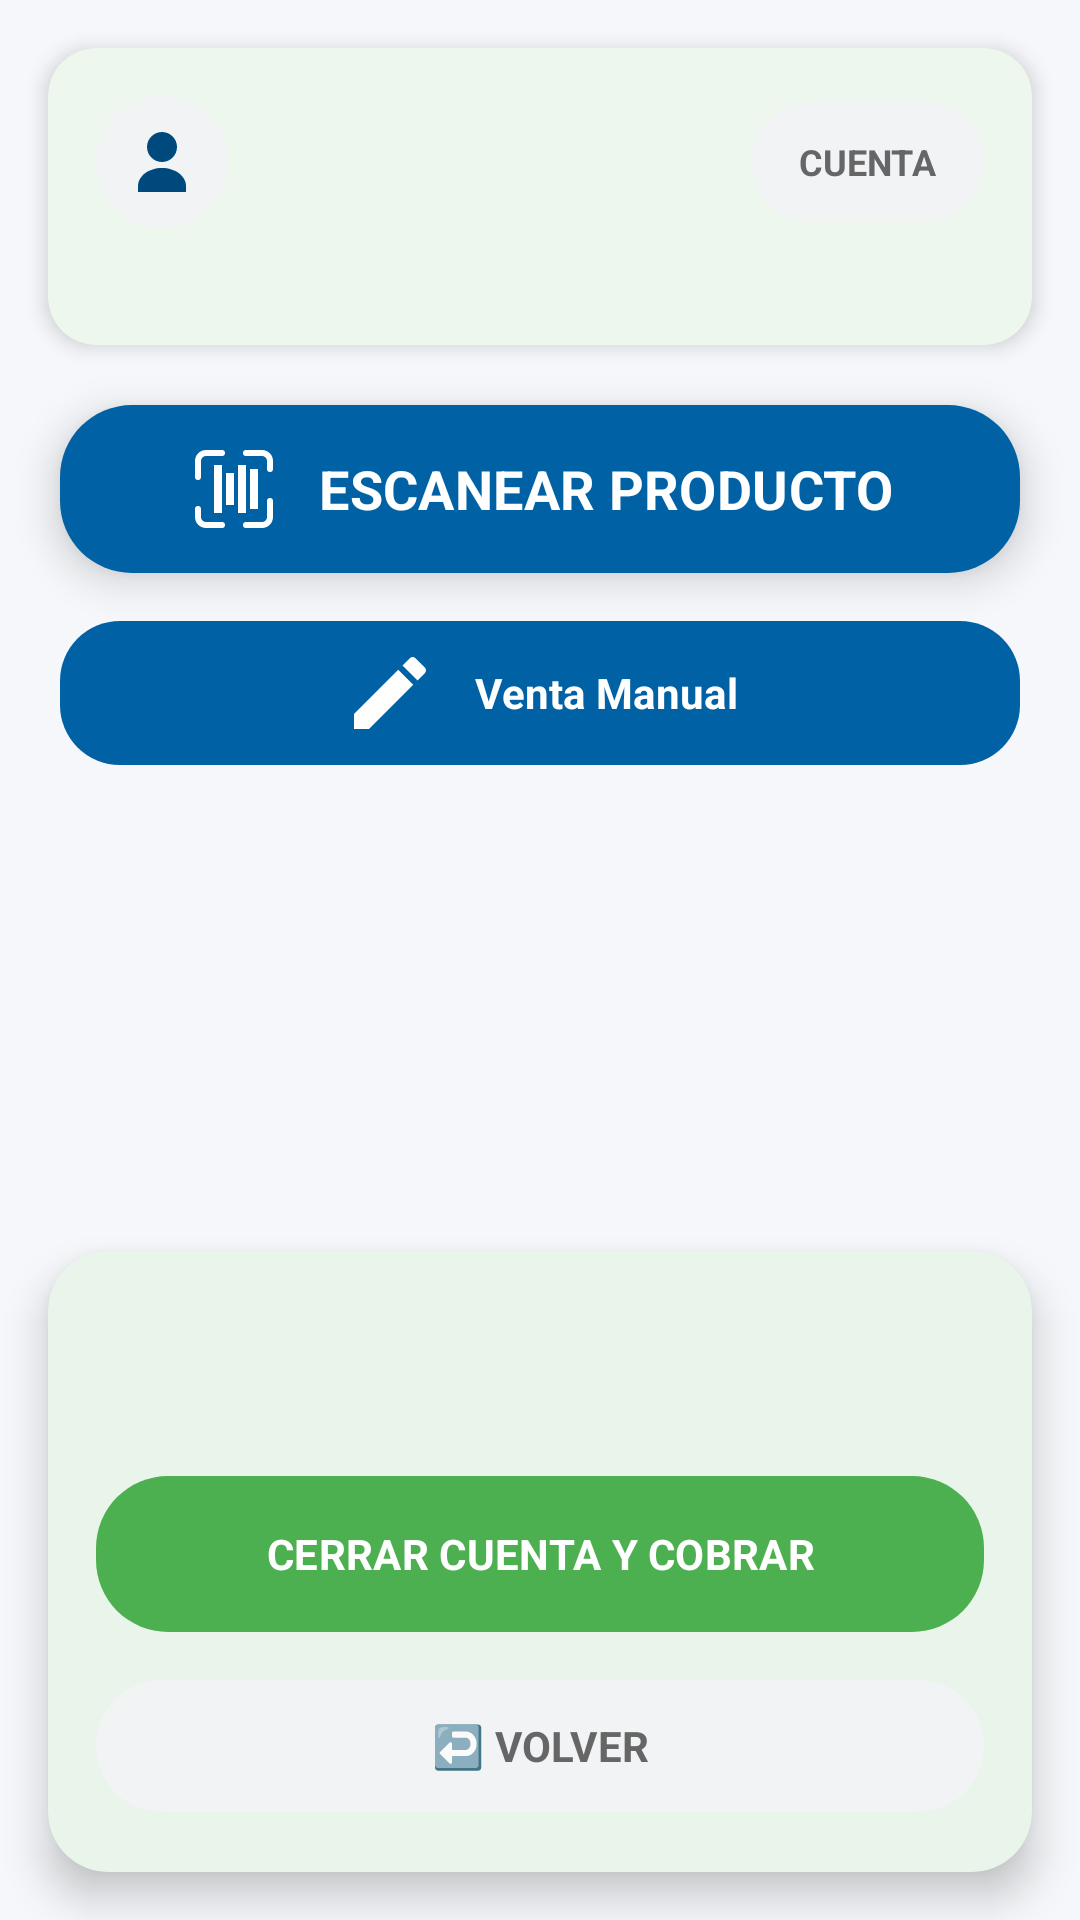

Named icons in this screenshot (1080px×1920px) and their bounding boxes, BBox(x1, y1, x2, y2):
person: BBox(138, 132, 186, 192)
